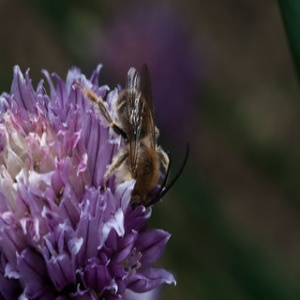bee: (125, 65, 197, 217)
